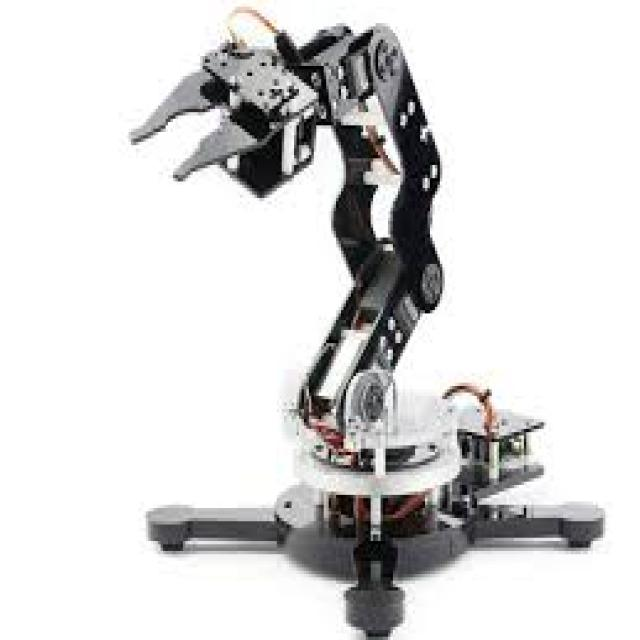Robotic-arm: (115, 1, 603, 506)
